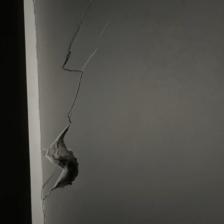Medium: (42, 18, 97, 199)
